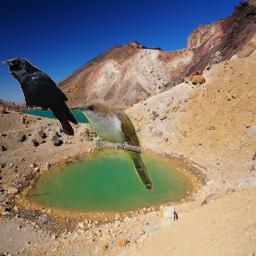Crow: (1, 58, 78, 136)
Cuckoo: (69, 102, 153, 191)
